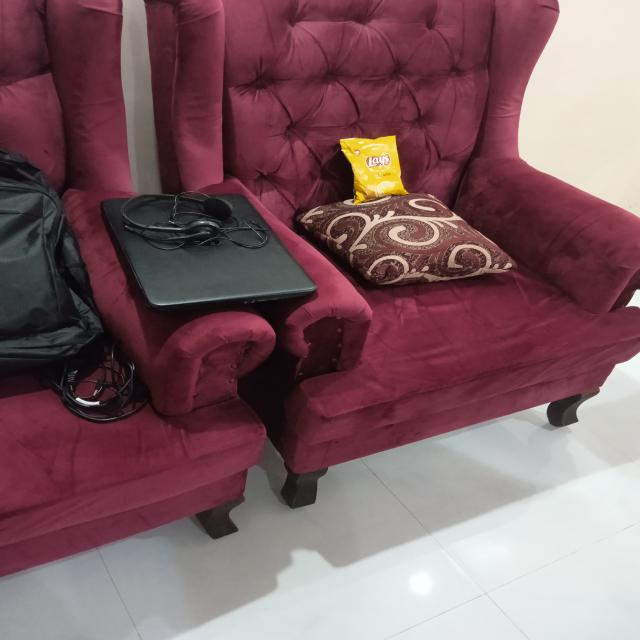Plastic: (334, 130, 414, 204)
